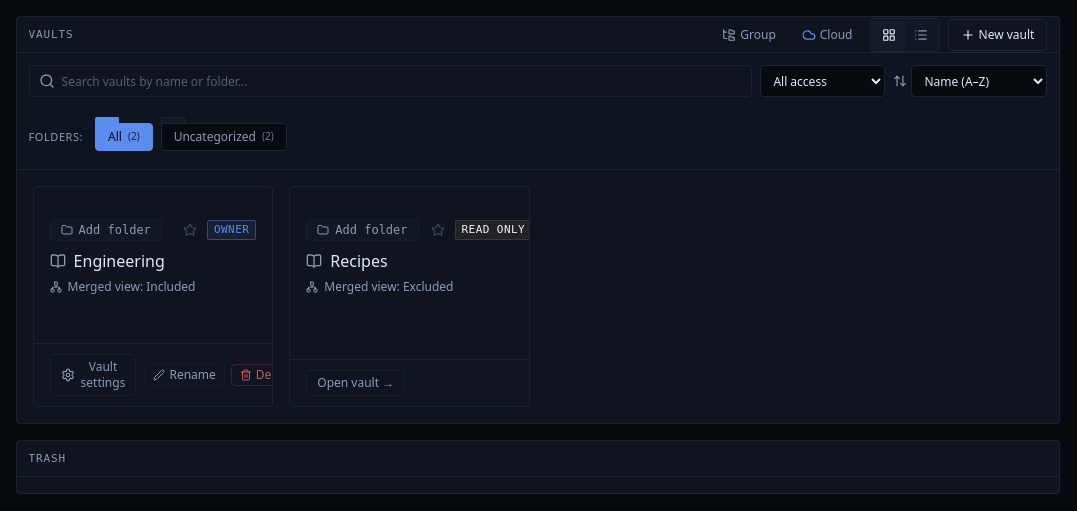
it: VaultsPage › can toggle between card view and list view
Expected: the link "Engineering" is shown, [50,250,165,272]
# Switch to list view
Click the button named "List view" at (920, 34), box [904,20,936,48]
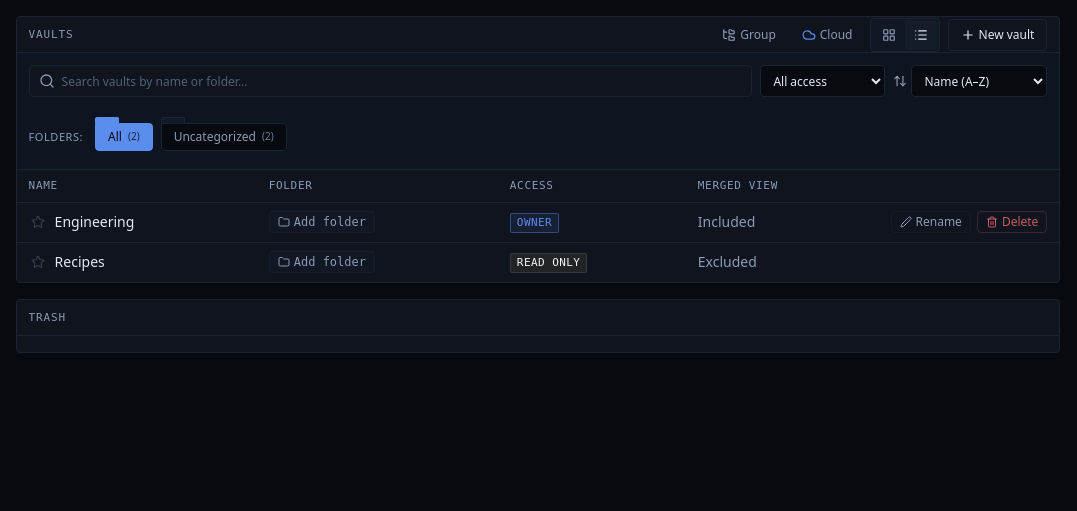
Now the table is shown, box [17,170,1059,282]
Now the column heading "Folder" is shown, box [257,170,498,202]
# Switch back to card view
Click the button named "Card view" at (888, 34), box [872,20,904,48]
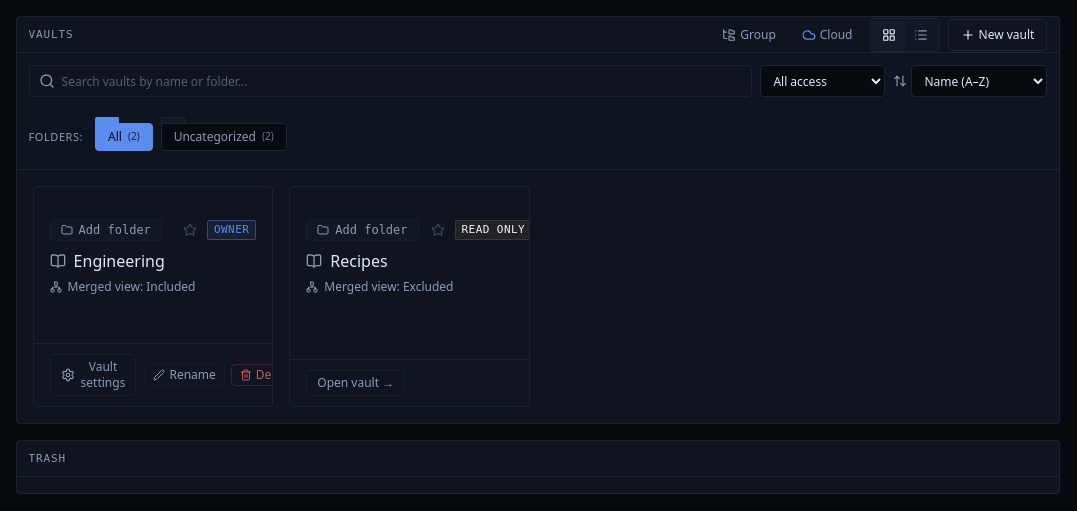
Now the table is gone
